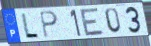0: (104, 7, 122, 35)
1: (69, 9, 82, 38)
3: (125, 6, 142, 35)
E: (79, 7, 106, 38)
L: (20, 12, 41, 39)
P: (39, 10, 60, 39)
